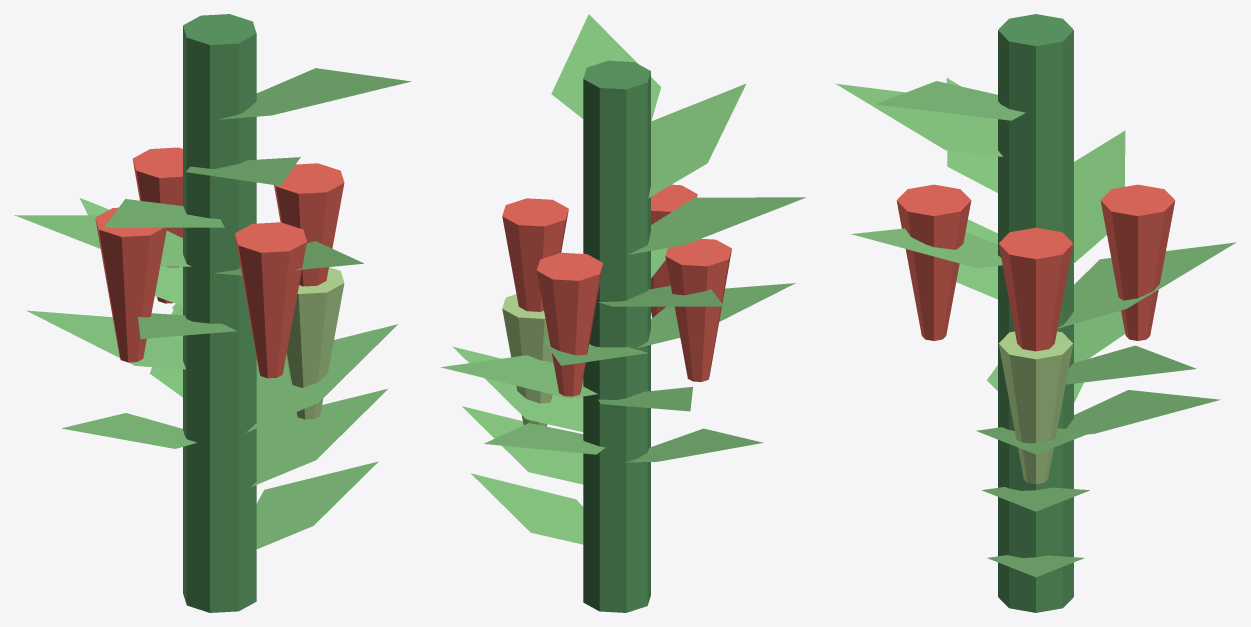
File: Pepper.glb
3 views of the same model, side by side, from view 1: azimuth 30°, elevation 25°; view 2: azimuth 150°, elevation 25°; view 3: azimuth 270°, elevation 25° (orthographic). The views are drawn at different scales.
Visible parts, largest first — view 1: SM_FTF_Plant_Pepper_S03_Stem, SM_FTF_Plant_Pepper_S03_Fruit_03, SM_FTF_Plant_Pepper_S03_Fruit_02, SM_FTF_Plant_Pepper_S02_Leaf_00, SM_FTF_Plant_Pepper_S02_Fruit_00, SM_FTF_Plant_Pepper_S03_Fruit_00, SM_FTF_Plant_Pepper_S01_Leaf_00, SM_FTF_Plant_Pepper_S03_Leaf_00, SM_FTF_Plant_Pepper_S03_Leaf_06, SM_FTF_Plant_Pepper_S02_Leaf_02, SM_FTF_Plant_Pepper_S03_Fruit_01, SM_FTF_Plant_Pepper_S01_Leaf_01 (+7 smaller); view 2: SM_FTF_Plant_Pepper_S03_Stem, SM_FTF_Plant_Pepper_S03_Fruit_01, SM_FTF_Plant_Pepper_S03_Fruit_02, SM_FTF_Plant_Pepper_S03_Leaf_05, SM_FTF_Plant_Pepper_S03_Fruit_00, SM_FTF_Plant_Pepper_S03_Leaf_04, SM_FTF_Plant_Pepper_S01_Leaf_00, SM_FTF_Plant_Pepper_S03_Leaf_06, SM_FTF_Plant_Pepper_S02_Leaf_00, SM_FTF_Plant_Pepper_S02_Fruit_00, SM_FTF_Plant_Pepper_S03_Leaf_01, SM_FTF_Plant_Pepper_S03_Leaf_00 (+7 smaller); view 3: SM_FTF_Plant_Pepper_S03_Stem, SM_FTF_Plant_Pepper_S03_Fruit_01, SM_FTF_Plant_Pepper_S03_Fruit_03, SM_FTF_Plant_Pepper_S03_Fruit_00, SM_FTF_Plant_Pepper_S02_Fruit_00, SM_FTF_Plant_Pepper_S03_Leaf_05, SM_FTF_Plant_Pepper_S03_Leaf_03, SM_FTF_Plant_Pepper_S03_Leaf_02, SM_FTF_Plant_Pepper_S02_Leaf_01, SM_FTF_Plant_Pepper_S03_Leaf_06, SM_FTF_Plant_Pepper_S03_Leaf_01, SM_FTF_Plant_Pepper_S02_Leaf_04 (+6 smaller).
Boxes of the visible parts, bbox=[...] form: SM_FTF_Plant_Pepper_S03_Stem: bbox=[183, 14, 256, 612]; SM_FTF_Plant_Pepper_S03_Fruit_03: bbox=[234, 222, 306, 378]; SM_FTF_Plant_Pepper_S03_Fruit_02: bbox=[95, 207, 166, 362]; SM_FTF_Plant_Pepper_S02_Leaf_00: bbox=[251, 389, 387, 486]; SM_FTF_Plant_Pepper_S02_Fruit_00: bbox=[286, 267, 344, 419]; SM_FTF_Plant_Pepper_S03_Fruit_00: bbox=[274, 163, 344, 286]; SM_FTF_Plant_Pepper_S01_Leaf_00: bbox=[255, 461, 378, 549]; SM_FTF_Plant_Pepper_S03_Leaf_00: bbox=[246, 324, 397, 432]; SM_FTF_Plant_Pepper_S03_Leaf_06: bbox=[219, 68, 411, 119]; SM_FTF_Plant_Pepper_S02_Leaf_02: bbox=[26, 310, 185, 369]; SM_FTF_Plant_Pepper_S03_Fruit_01: bbox=[132, 147, 182, 303]; SM_FTF_Plant_Pepper_S01_Leaf_01: bbox=[61, 413, 196, 448]; SM_FTF_Plant_Pepper_S03_Stem: bbox=[583, 60, 650, 612]; SM_FTF_Plant_Pepper_S03_Fruit_01: bbox=[536, 252, 603, 396]; SM_FTF_Plant_Pepper_S03_Fruit_02: bbox=[665, 238, 731, 381]; SM_FTF_Plant_Pepper_S03_Leaf_05: bbox=[648, 84, 745, 197]; SM_FTF_Plant_Pepper_S03_Fruit_00: bbox=[502, 198, 568, 311]; SM_FTF_Plant_Pepper_S03_Leaf_04: bbox=[628, 197, 805, 254]; SM_FTF_Plant_Pepper_S01_Leaf_00: bbox=[471, 473, 583, 544]; SM_FTF_Plant_Pepper_S03_Leaf_06: bbox=[551, 14, 660, 122]; SM_FTF_Plant_Pepper_S02_Leaf_00: bbox=[462, 406, 583, 484]; SM_FTF_Plant_Pepper_S02_Fruit_00: bbox=[502, 294, 553, 426]; SM_FTF_Plant_Pepper_S03_Leaf_01: bbox=[441, 355, 597, 398]; SM_FTF_Plant_Pepper_S03_Leaf_00: bbox=[453, 346, 583, 431]; SM_FTF_Plant_Pepper_S03_Stem: bbox=[998, 14, 1073, 612]; SM_FTF_Plant_Pepper_S03_Fruit_01: bbox=[1100, 184, 1175, 340]; SM_FTF_Plant_Pepper_S03_Fruit_03: bbox=[896, 184, 971, 340]; SM_FTF_Plant_Pepper_S03_Fruit_00: bbox=[998, 227, 1073, 351]; SM_FTF_Plant_Pepper_S02_Fruit_00: bbox=[998, 331, 1073, 483]; SM_FTF_Plant_Pepper_S03_Leaf_05: bbox=[835, 83, 1002, 156]; SM_FTF_Plant_Pepper_S03_Leaf_03: bbox=[1073, 131, 1125, 263]; SM_FTF_Plant_Pepper_S03_Leaf_02: bbox=[1057, 242, 1236, 328]; SM_FTF_Plant_Pepper_S02_Leaf_01: bbox=[1066, 390, 1220, 434]; SM_FTF_Plant_Pepper_S03_Leaf_06: bbox=[875, 81, 1025, 120]; SM_FTF_Plant_Pepper_S03_Leaf_01: bbox=[1066, 345, 1196, 384]; SM_FTF_Plant_Pepper_S02_Leaf_04: bbox=[851, 228, 1002, 268].
Size of what is drawn, in the model's own units: 0.5761 by 0.92 by 0.591.
